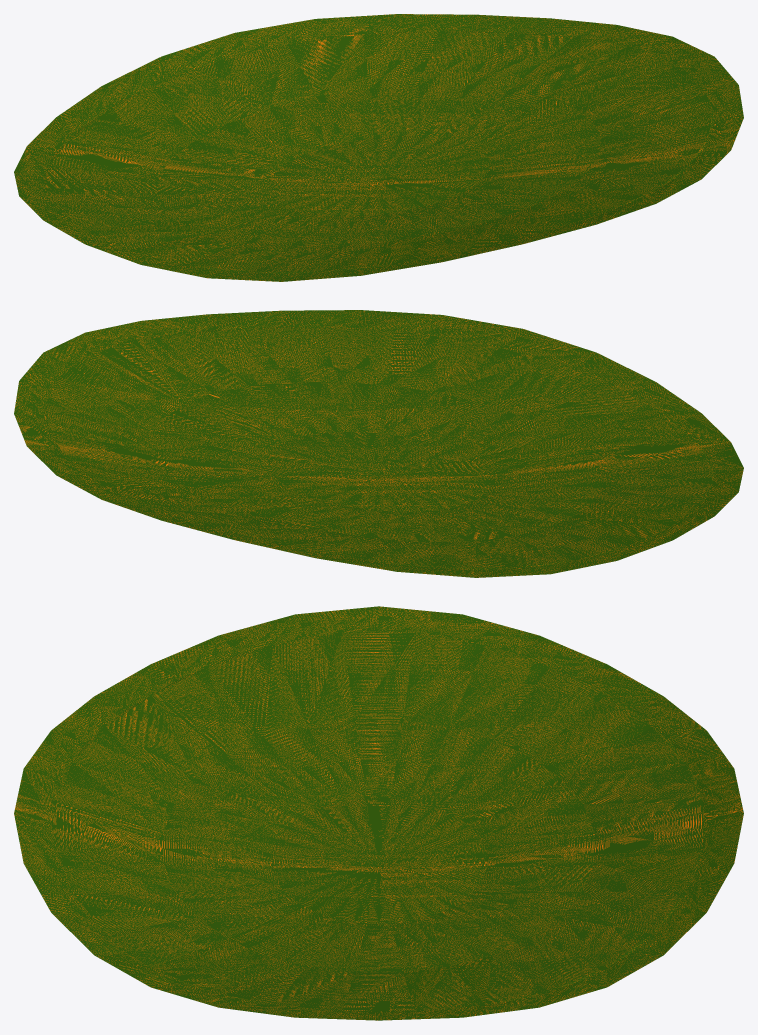
The model's file is original-10.obj.
3 renders of one model, top to bottom at view 1: azimuth 30°, elevation 25°; view 2: azimuth 150°, elevation 25°; view 3: azimuth 270°, elevation 25°, orthographic. The views are drawn at different scales.
Parts seen in each view (by area): view 1: mesh10/mesh10-geometry#mesh10-geometry; view 2: mesh10/mesh10-geometry#mesh10-geometry; view 3: mesh10/mesh10-geometry#mesh10-geometry.
Boxes of the visible parts, x1,y1,x2,y2 form: mesh10/mesh10-geometry#mesh10-geometry: [14, 14, 743, 281]; mesh10/mesh10-geometry#mesh10-geometry: [14, 310, 743, 577]; mesh10/mesh10-geometry#mesh10-geometry: [14, 606, 743, 1020].
Size of the model in its own units: 0.0921 by 0.00538 by 0.0686.
